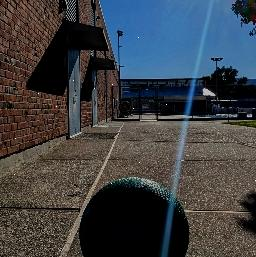algae: (73, 174, 190, 257)
